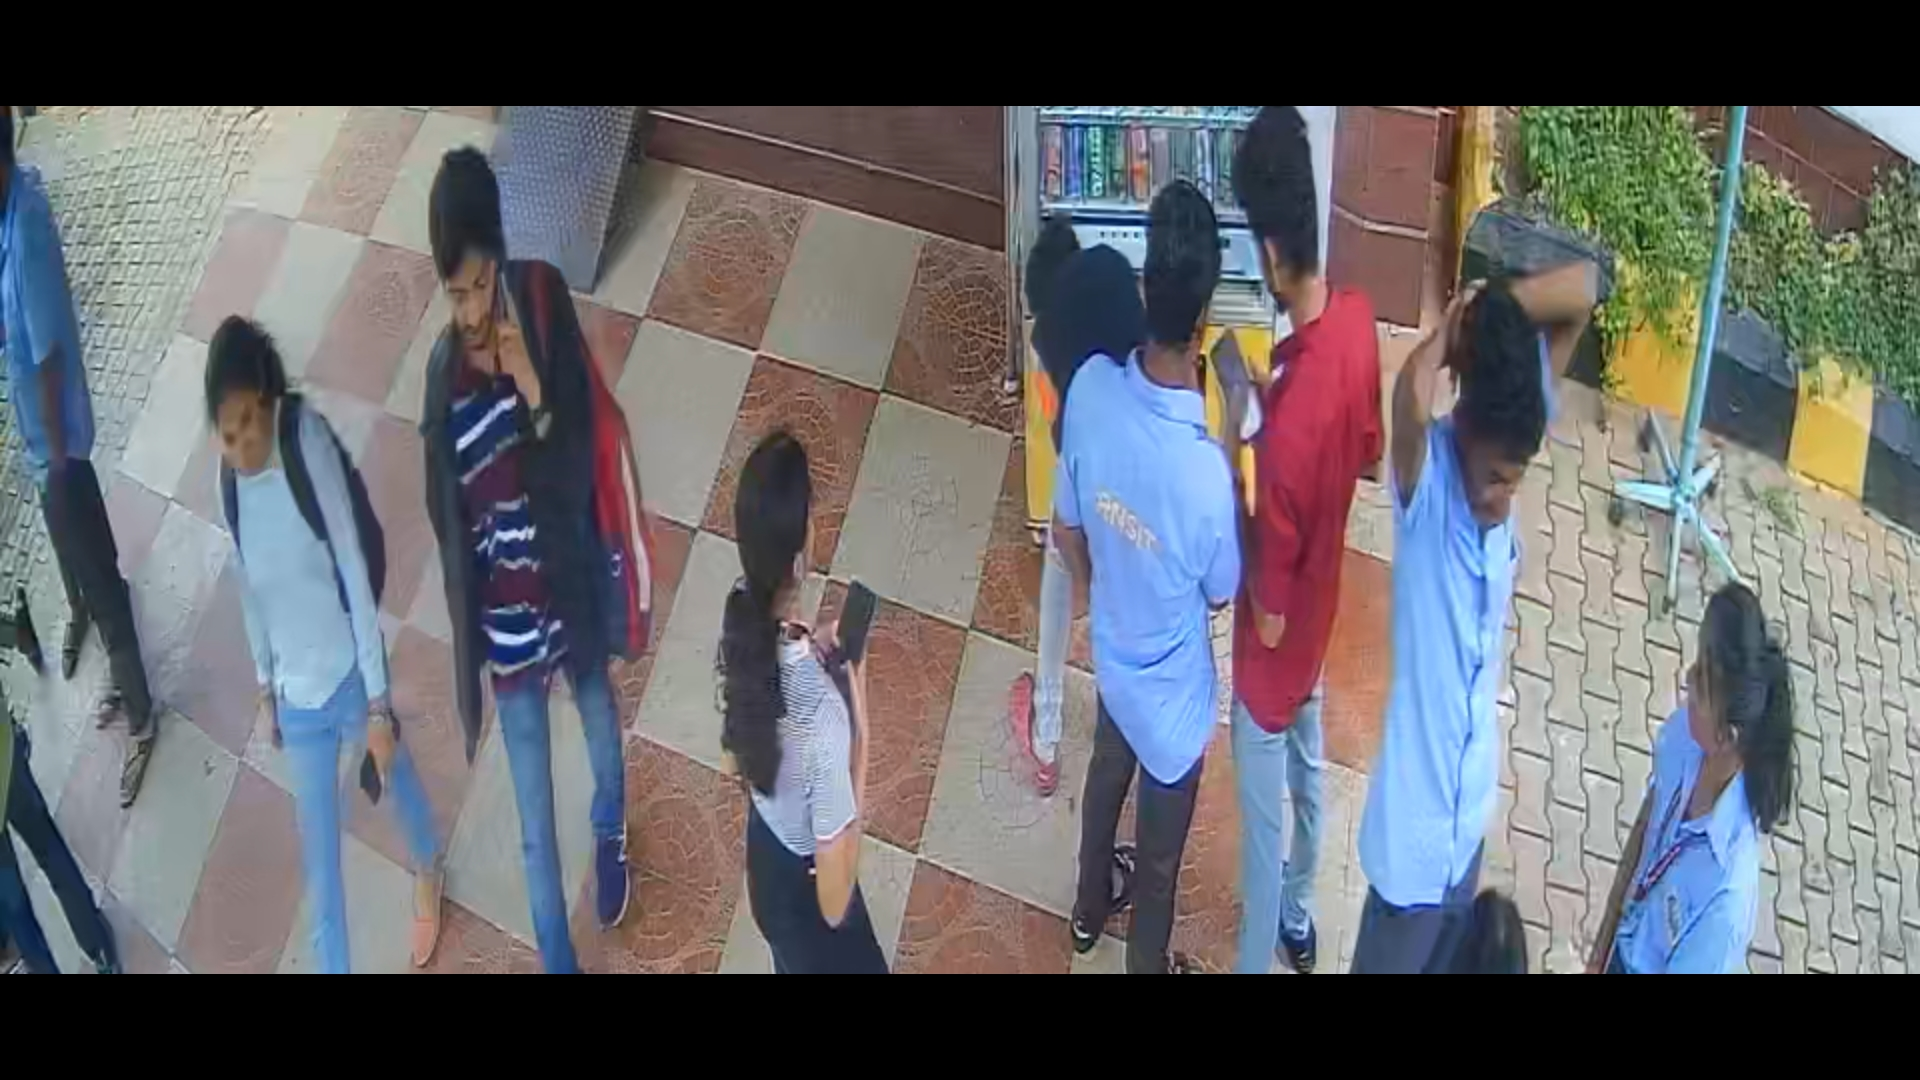intruder: (430, 138, 661, 967), (187, 316, 475, 957), (1383, 261, 1578, 965)
